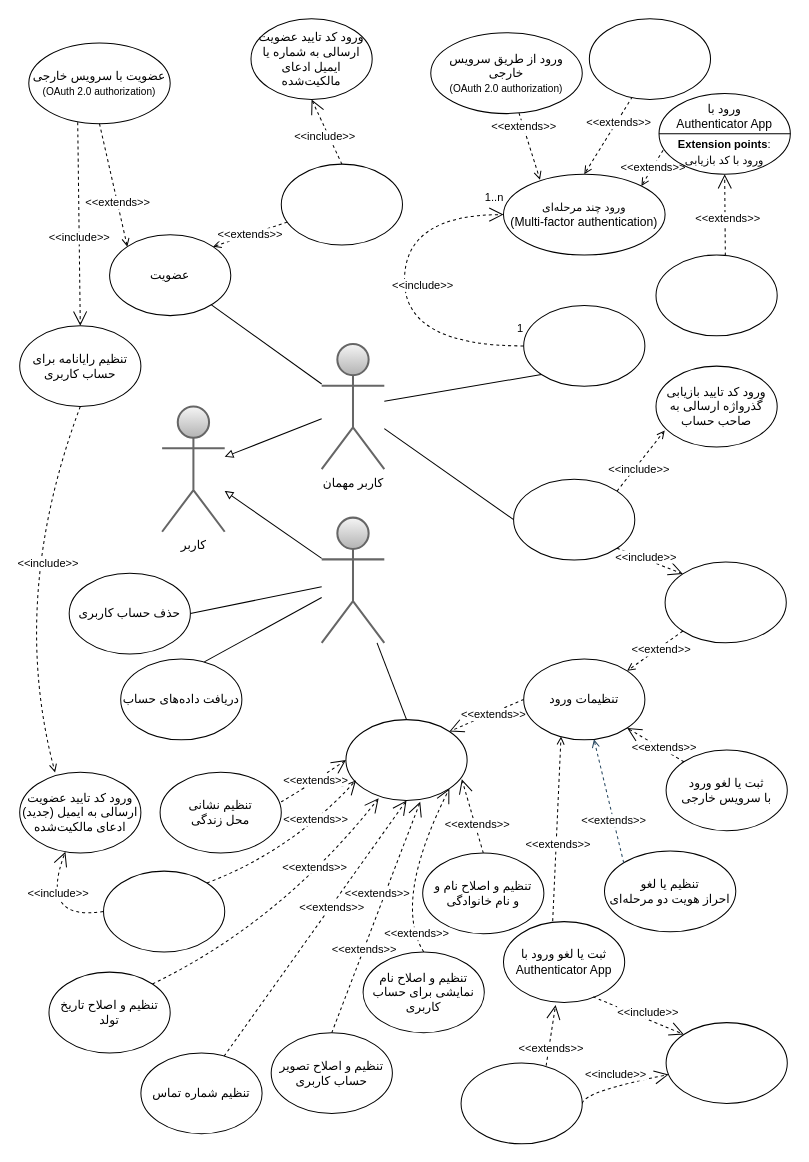
The diagram is 809 pixels wide and 1162 high, and some of its shapes have lost their labels. Each missing label, with the box of its shape:
اصلاح رایانامه: (103, 870, 225, 952)
تغییر گذرواژه: (664, 561, 786, 643)
تنظیمات حساب کاربری: (345, 719, 467, 800)
دریافت کدهای بازیابی (تنها یکبار قابل رویت): (665, 1022, 787, 1103)
عضویت عادی (by e-mail, etc.): (280, 163, 402, 245)
فراموشی گذرواژه: (513, 478, 635, 560)
نوسازی کدهای بازیابی: (460, 1062, 582, 1144)
ورود: (523, 305, 645, 386)
ورود با نام کاربری و گذرواژه: (588, 18, 711, 99)
ورود با کدهای بازیابی: (655, 254, 777, 336)
کاربر عضو: (320, 516, 385, 643)
